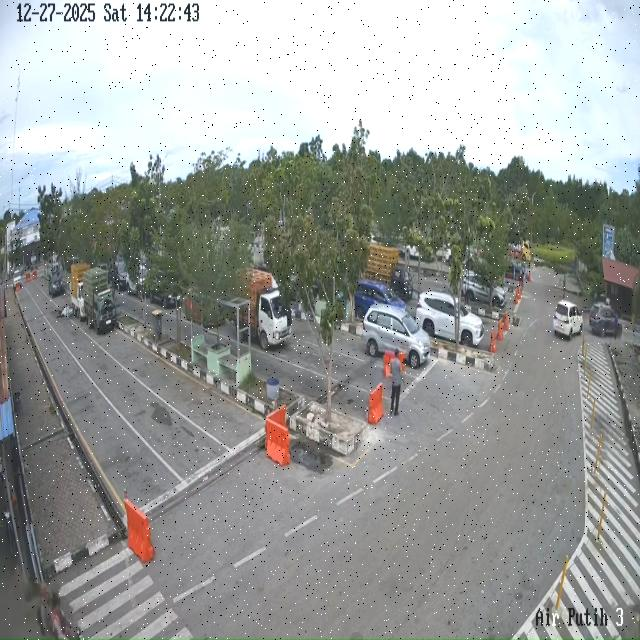Golongan IVA: (363, 304, 430, 369), (416, 290, 484, 348), (82, 267, 116, 334), (354, 279, 406, 320), (462, 272, 507, 308), (554, 300, 584, 339), (589, 304, 622, 337), (49, 272, 64, 298)
Golongan IVB: (239, 265, 291, 346), (68, 262, 90, 322)
